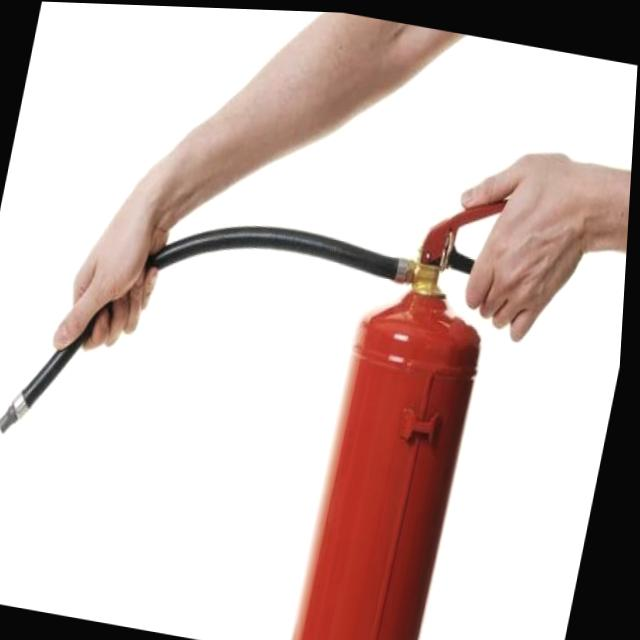FireExtinguisher: (0, 107, 566, 640)
